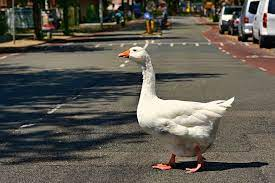Walking: (112, 30, 234, 177)
